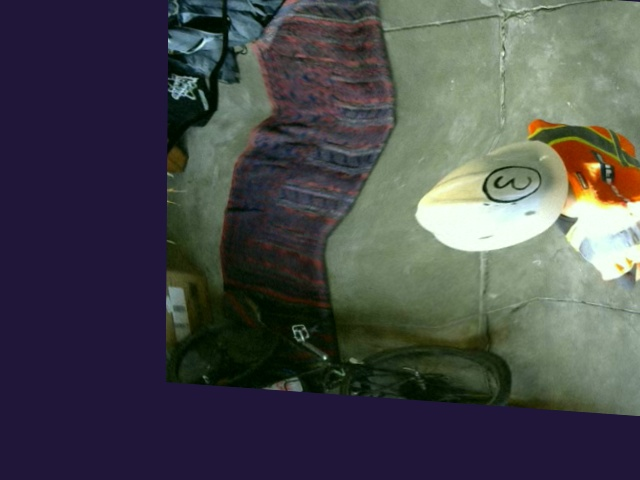three: (481, 160, 540, 206)
